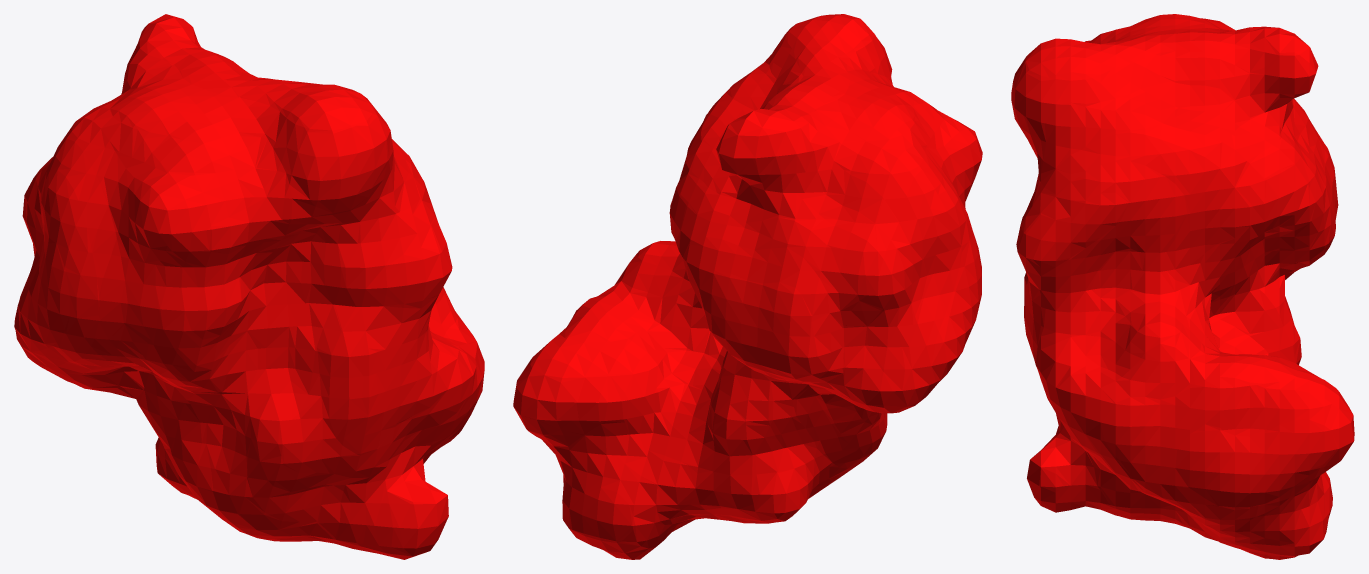
File: syd_coarse.dae
3 views of the same model, side by side, from view 1: azimuth 30°, elevation 25°; view 2: azimuth 150°, elevation 25°; view 3: azimuth 270°, elevation 25° (orthographic). The views are drawn at different scales.
Visible parts, largest first — view 1: syd; view 2: syd; view 3: syd.
Part boxes in pixels (x1,y1,x2,y2): syd: (14, 14, 484, 559); syd: (513, 14, 982, 559); syd: (1011, 14, 1354, 559).
Size of the model in its own units: 60.38 by 69.62 by 46.37.
